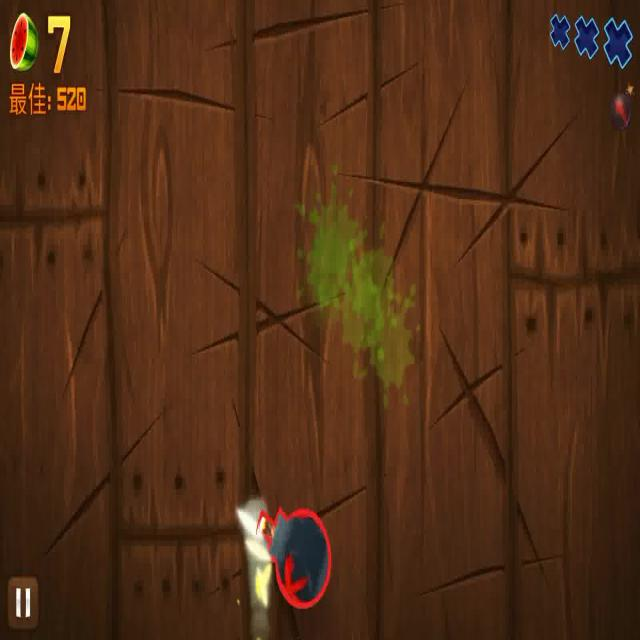bomb: (237, 484, 334, 608)
